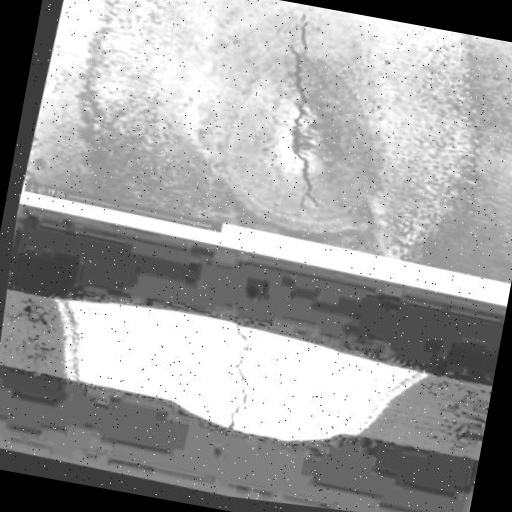crack: (248, 8, 366, 224), (208, 324, 269, 436)
